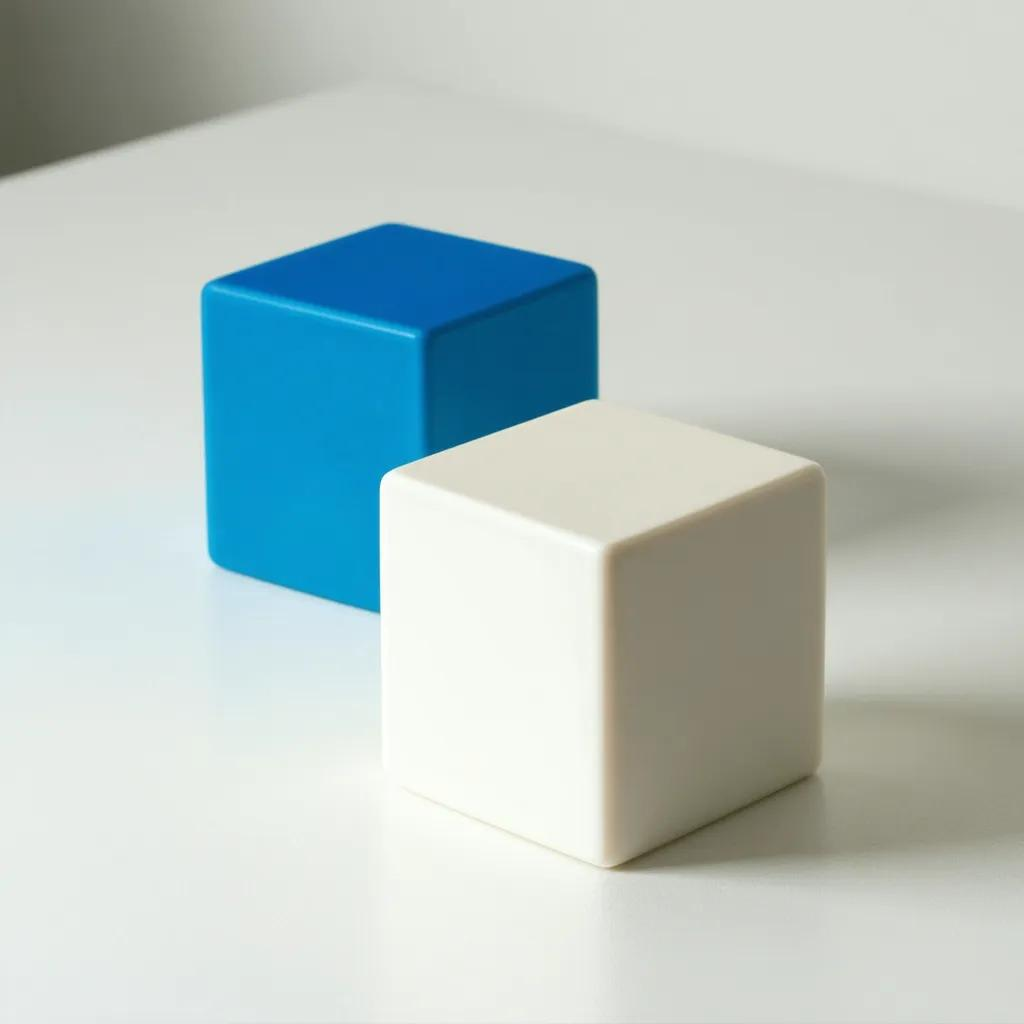cube: (377, 396, 827, 869), (199, 220, 600, 614)
